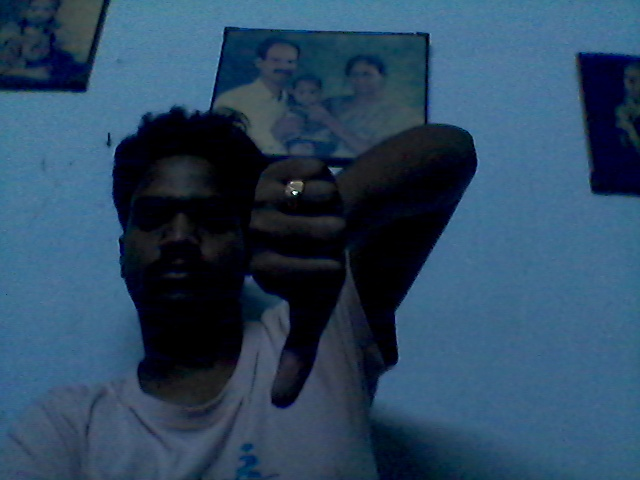Please: (243, 151, 374, 414)
